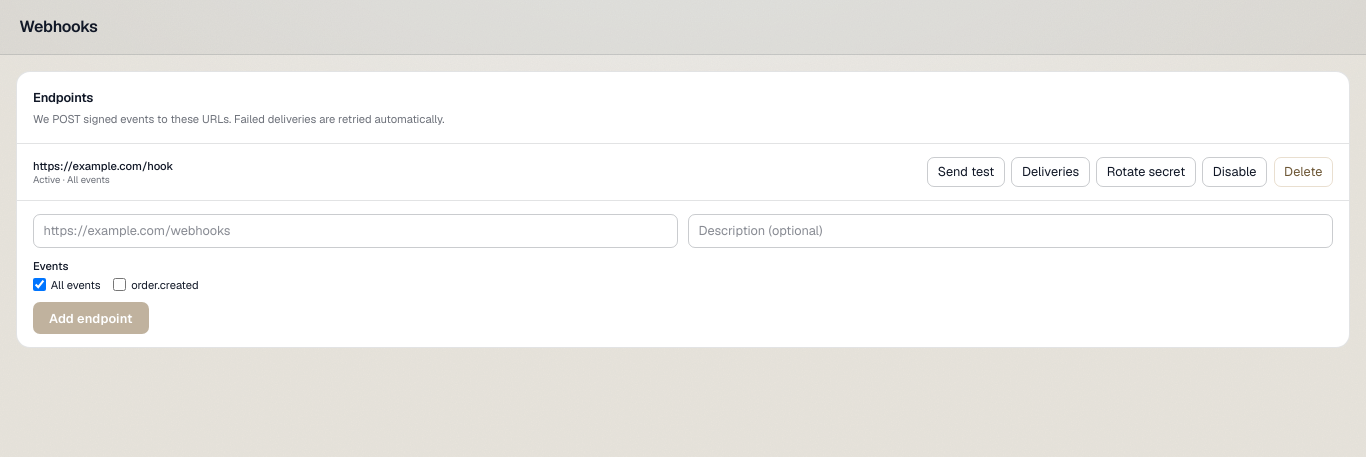
Scenario: AdminWebhooks › creates an endpoint and shows its signing secret once
The width and height of the screenshot is (1366, 457).
Check: the text "https://example.com/hook" is shown, box [33, 158, 173, 174]
In the field with placeholder "https://example.com/webhooks": (356, 231) [33, 214, 678, 248], type "https://example.com/new"
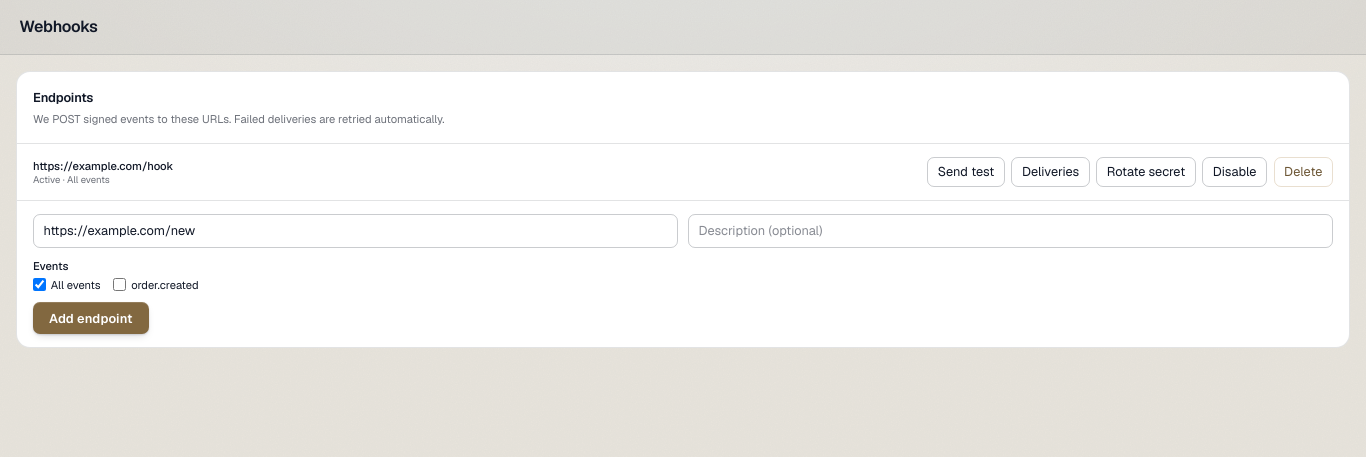
Click the button "Add endpoint": (91, 318) [33, 302, 149, 334]
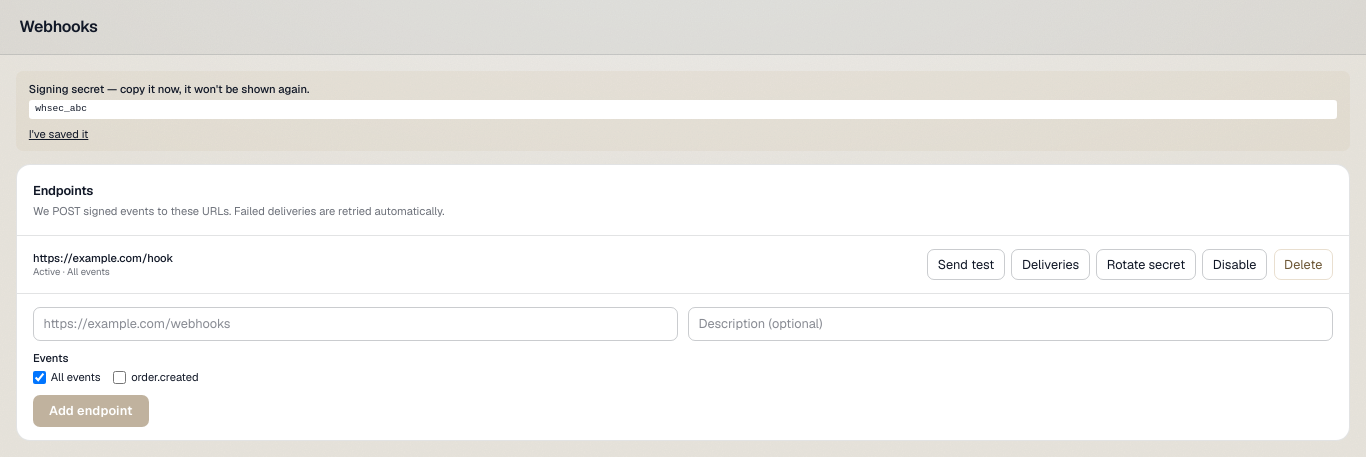
Check: the text "whsec_abc" is shown, box [29, 100, 1337, 119]
Click the button "I've saved it": (59, 134) [29, 126, 88, 142]
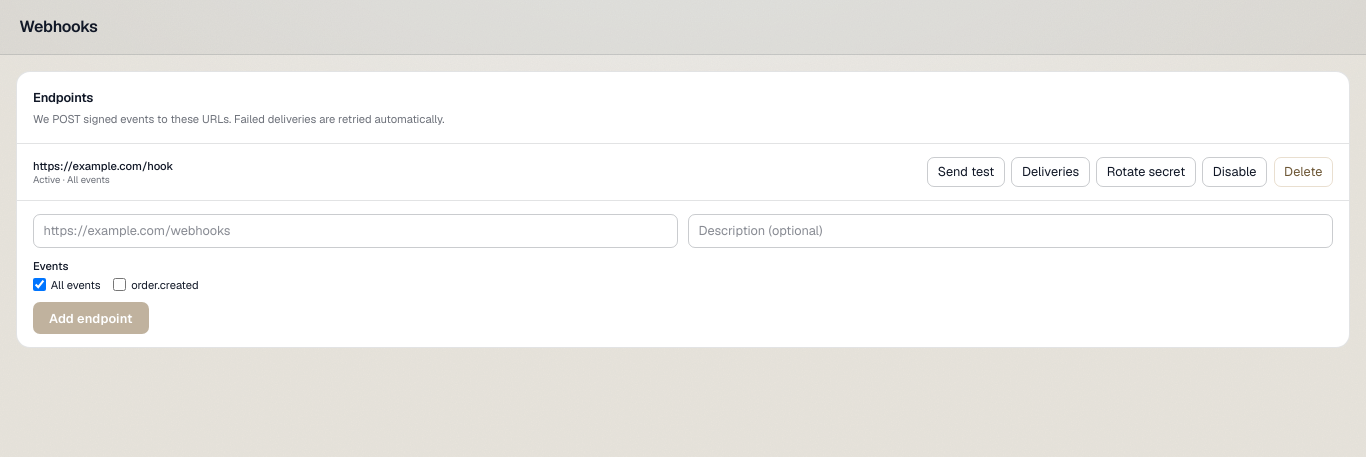
Check: the text "whsec_abc" is gone
